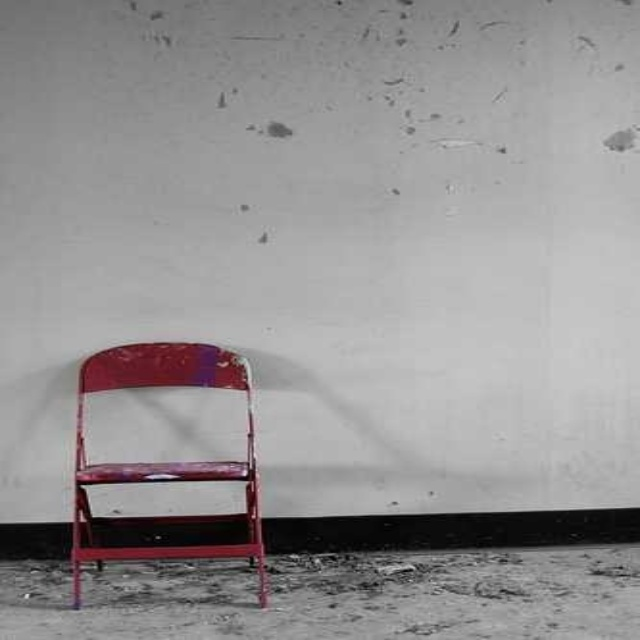obstacle: (71, 343, 269, 611)
